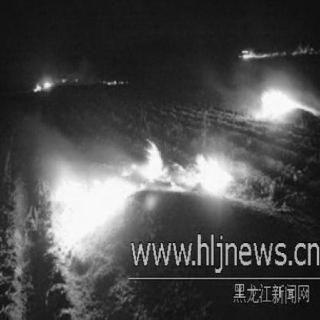Fire: (254, 77, 318, 119), (29, 69, 127, 95)
